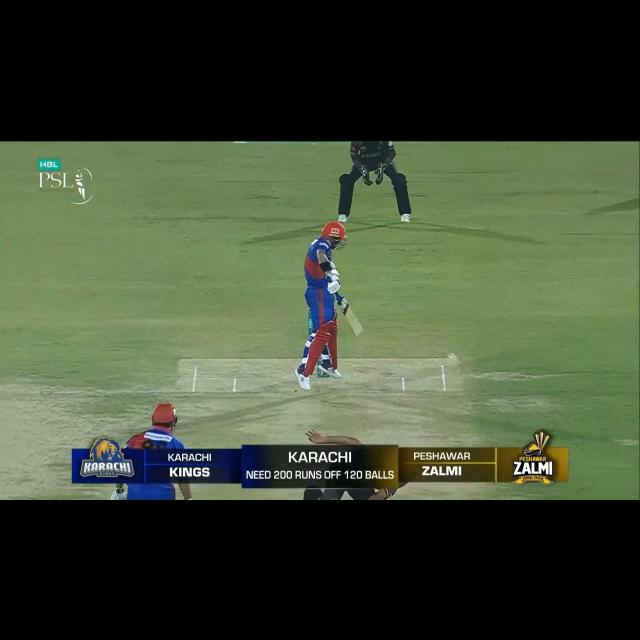bat: (338, 300, 364, 336)
toe: (352, 324, 364, 335)
